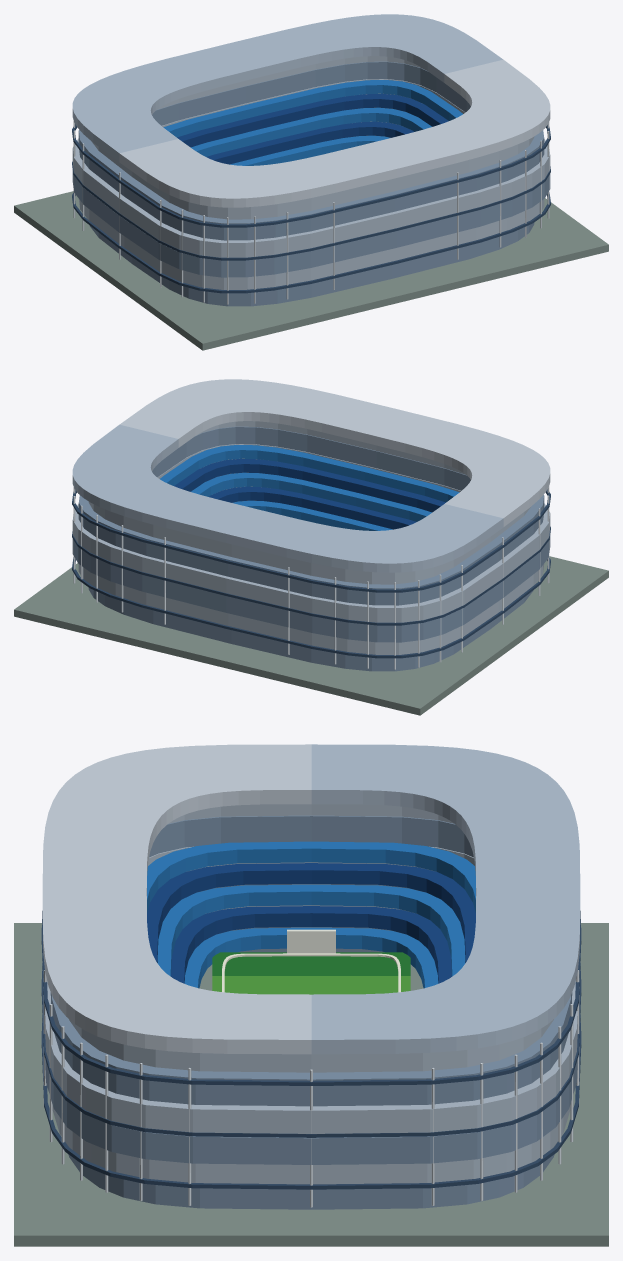
Rendered from santiago-bernabeu.glb.
3 views of the same model, one above another, from view 1: azimuth 30°, elevation 25°; view 2: azimuth 150°, elevation 25°; view 3: azimuth 270°, elevation 25° (orthographic). The views are drawn at different scales.
Parts seen in each view (by area): view 1: shell_A5B1B5, shell_B6C0C2, roof_north_CED5D3, roof_south_C2CECD, base_A6ABA0, seating_849BB4, seating_596B83, shell_657C86, shell_ribs_D2D8D5; view 2: shell_A5B1B5, shell_B6C0C2, roof_south_C2CECD, roof_north_CED5D3, base_A6ABA0, seating_849BB4, seating_596B83, shell_657C86, shell_ribs_D2D8D5; view 3: roof_north_CED5D3, roof_south_C2CECD, shell_A5B1B5, base_A6ABA0, shell_B6C0C2, seating_849BB4, seating_596B83, shell_657C86, shell_ribs_D2D8D5, pitch_1, pitch_2, goals_DEE0CB (+1 smaller).
Boxes of the visible parts, x1,y1,x2,y2 form: shell_A5B1B5: (72,61,550,306); shell_B6C0C2: (72,56,550,289); roof_north_CED5D3: (119,59,550,207); roof_south_C2CECD: (72,14,502,161); base_A6ABA0: (14,191,608,350); seating_849BB4: (163,80,462,165); seating_596B83: (177,93,448,164); shell_657C86: (72,124,550,293); shell_ribs_D2D8D5: (73,121,549,304); shell_A5B1B5: (72,426,550,671); shell_B6C0C2: (72,421,550,654); roof_south_C2CECD: (72,424,503,572); roof_north_CED5D3: (120,379,550,526); base_A6ABA0: (14,556,608,715); seating_849BB4: (160,445,459,530); seating_596B83: (174,458,445,529); shell_657C86: (72,489,550,658); shell_ribs_D2D8D5: (73,486,549,669); roof_north_CED5D3: (42,744,311,1054); roof_south_C2CECD: (311,744,580,1054); shell_A5B1B5: (45,815,577,1209); base_A6ABA0: (14,923,608,1246); shell_B6C0C2: (43,804,579,1184); seating_849BB4: (147,841,475,988); seating_596B83: (147,863,475,983); shell_657C86: (41,911,581,1189); shell_ribs_D2D8D5: (43,970,579,1207); pitch_1: (212,952,410,975); pitch_2: (212,976,410,994); goals_DEE0CB: (287,929,335,953).
Bounding box in the file's own units: 1 × 0.2955 × 0.8045.
